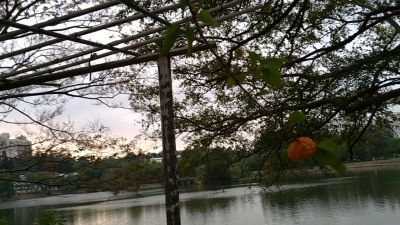eggs: (288, 137, 318, 162)
